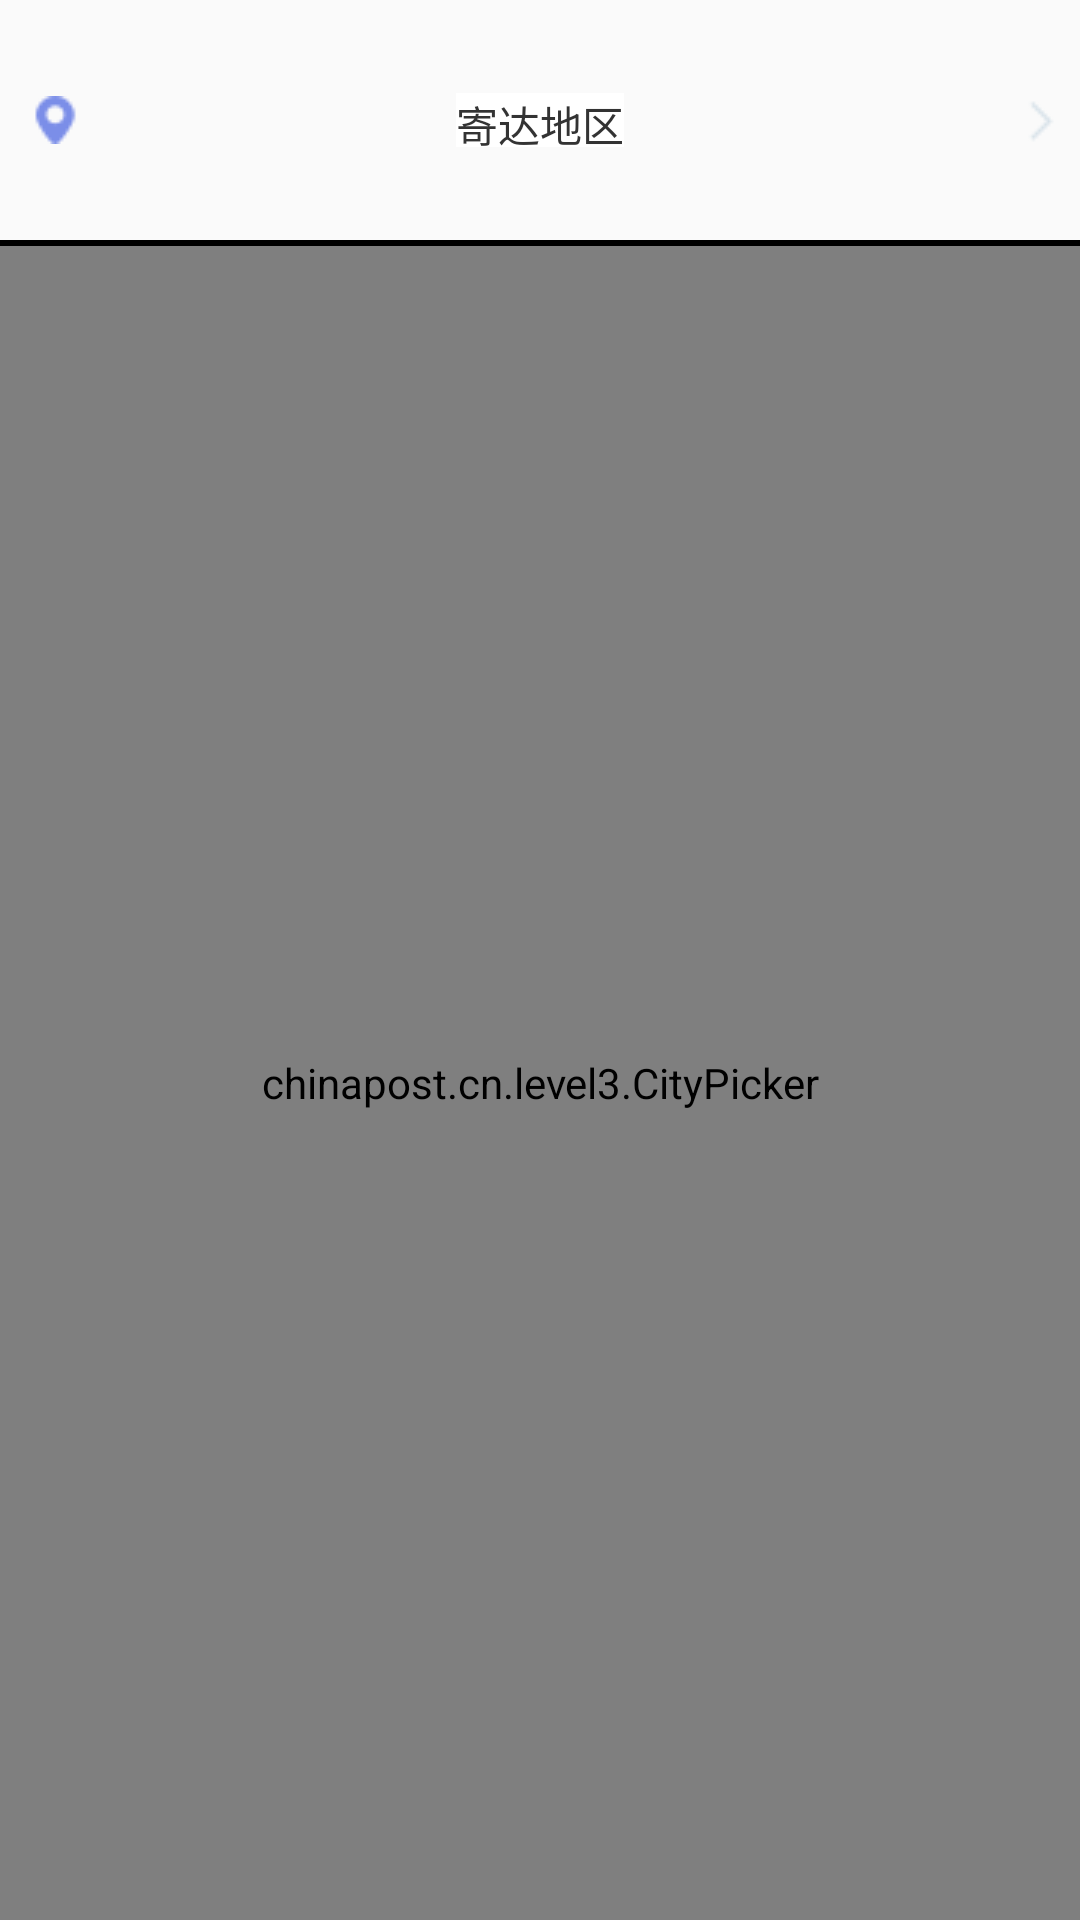

Icon bounding boxes for this 1080 x 1920 phone screenshot, format (x1, y1, x2, y2):
site: (35, 96, 76, 144)
